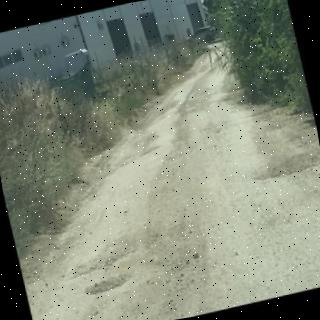pothole: (84, 274, 132, 294)
